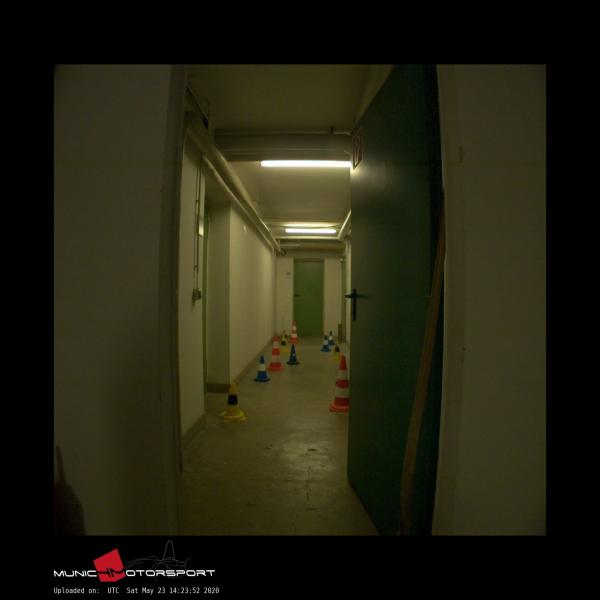blue_cone: (254, 355, 270, 383), (286, 344, 300, 364), (320, 335, 332, 352), (328, 331, 335, 345)
large_orange_cone: (329, 356, 349, 413), (267, 335, 285, 371), (288, 321, 300, 344)
yellow_cone: (220, 382, 246, 422), (331, 341, 341, 361), (280, 336, 288, 353), (283, 330, 288, 344)
